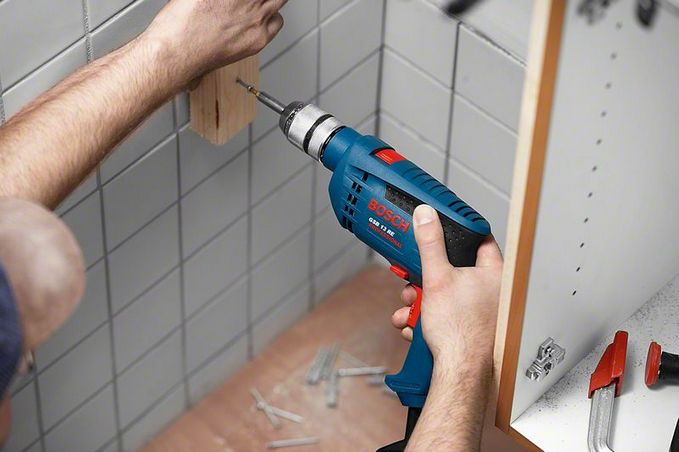Bosch: (367, 193, 415, 235)
